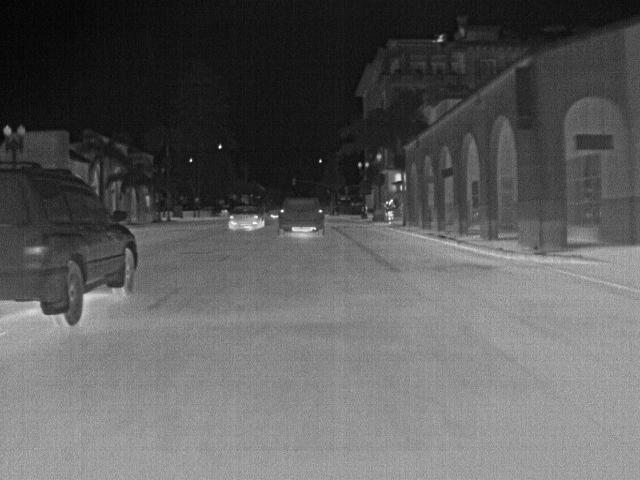car: (0, 160, 141, 331), (277, 197, 325, 234), (228, 204, 265, 232), (267, 209, 280, 220)
person: (386, 197, 393, 221)
